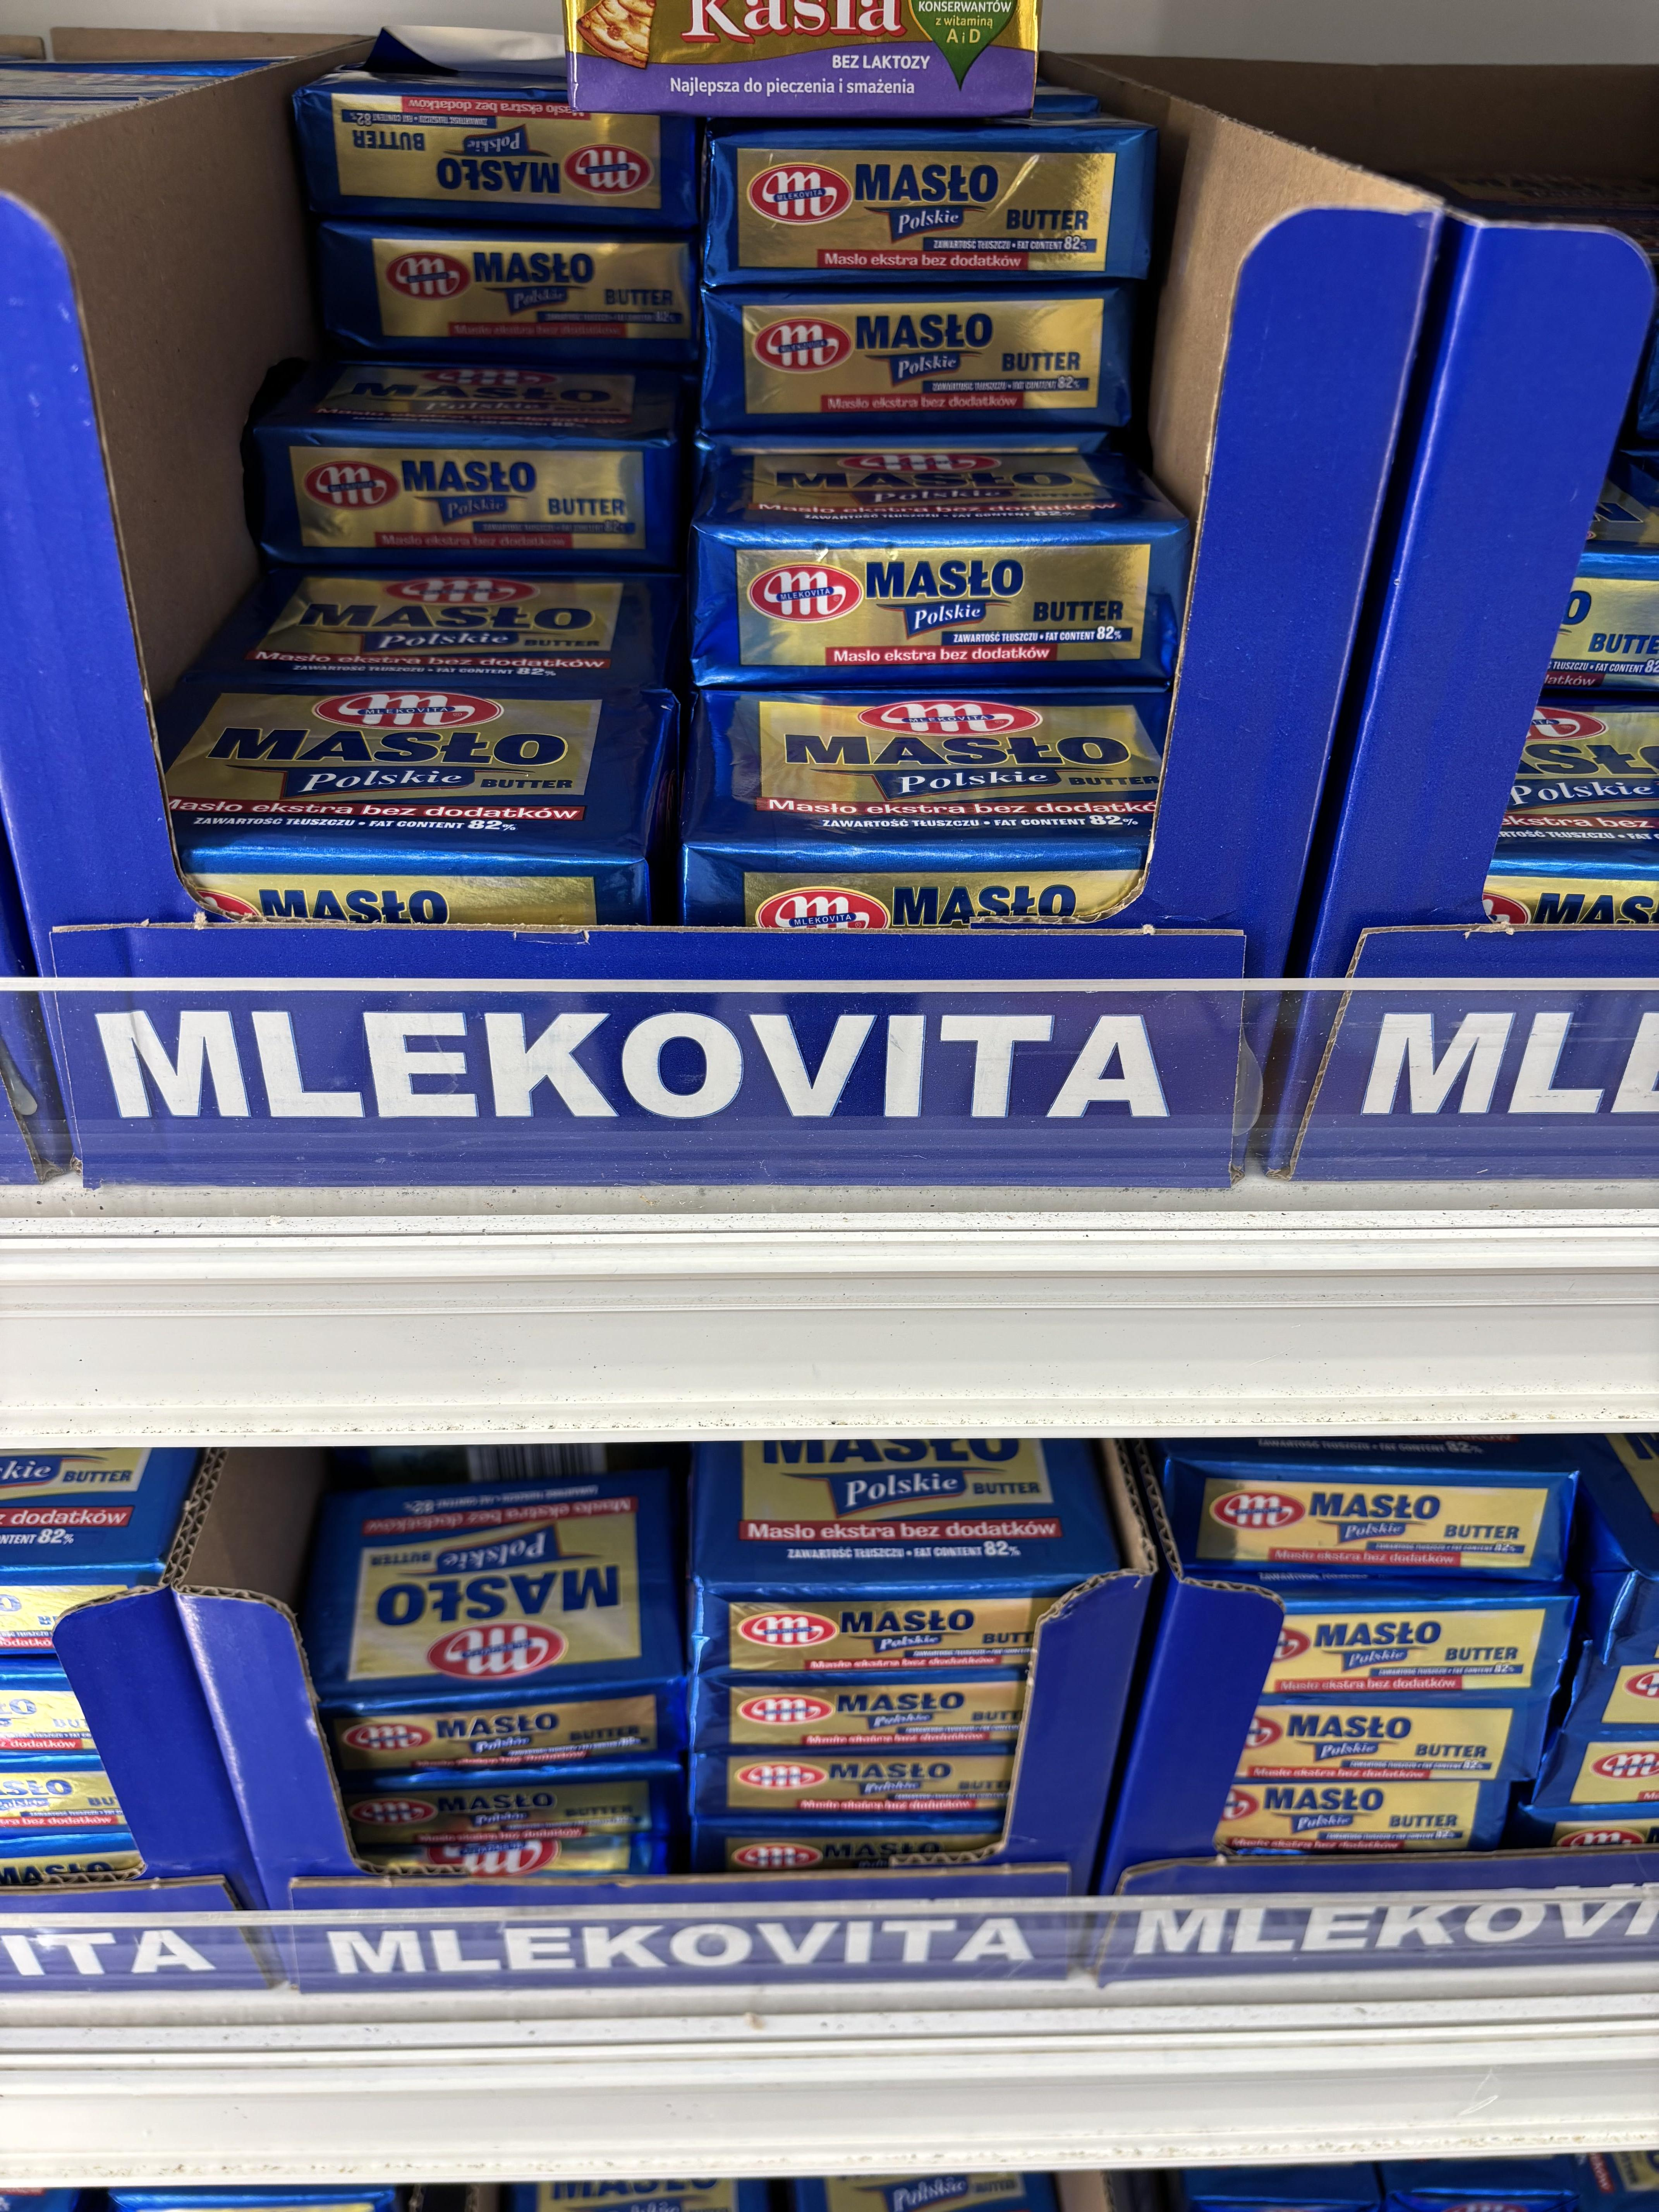Butter: (193, 707, 695, 941), (697, 451, 1199, 664), (702, 693, 1155, 911), (704, 1453, 1119, 1634), (328, 207, 734, 359), (317, 1536, 685, 1698), (701, 134, 1150, 263), (267, 409, 697, 540), (702, 301, 1147, 427), (261, 575, 669, 683), (1175, 1470, 1607, 1568), (321, 87, 669, 192)
